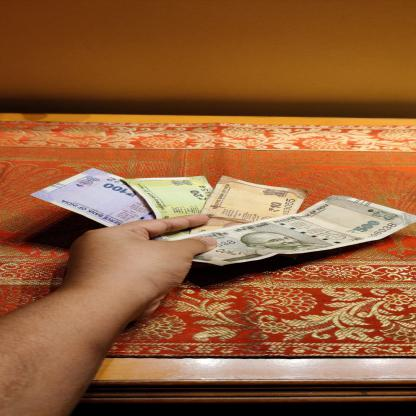New100Front: (29, 167, 163, 240)
New10Front: (190, 175, 308, 234)
New20Front: (119, 175, 215, 240)
New500Front: (163, 194, 415, 266)
